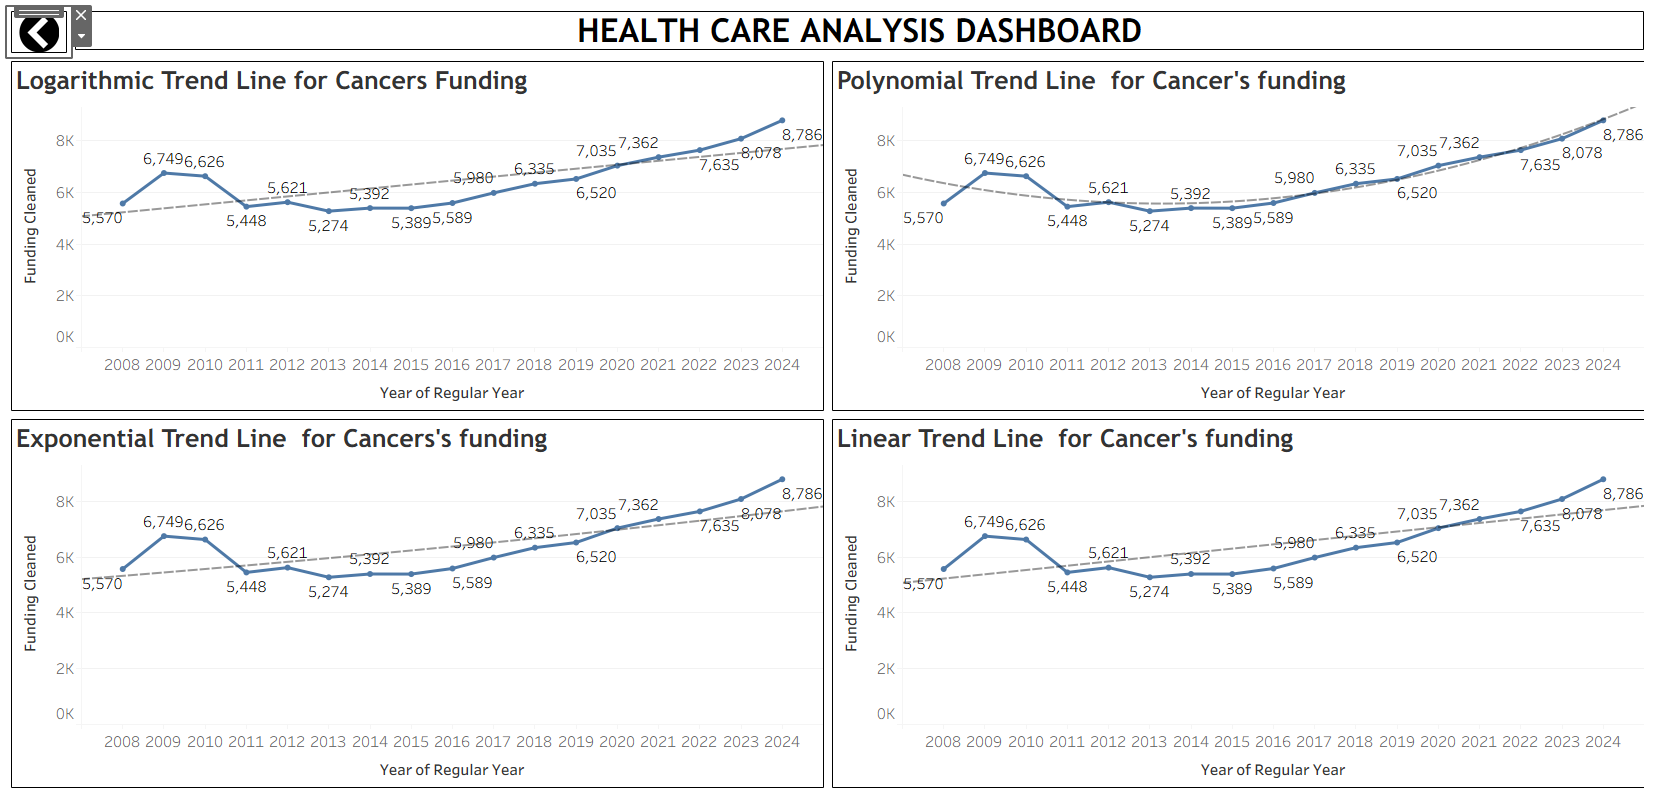

The dashboard page shown, as its layout file describes it:
{"tool":"tableau","page":{"name":"Dashboard 7","canvas":[1000,1000],"units":"permille","ordinal":6},"visuals":[{"type":"dashboard-object","box":[4.8,10,38.6,62.4]},{"type":"text","box":[43.4,10,951.7,58.7]},{"type":"worksheet","title":"Logarithmic Trend Line","mark":"Automatic","rows":["Calculation_335518175856336896"],"cols":["Calculation_335518175857041411"],"box":[4.8,72.4,495.2,446.9]},{"type":"worksheet","title":"Polynomial Trend Line ","mark":"Automatic","rows":["Calculation_335518175856336896"],"cols":["Calculation_335518175857041411"],"box":[500,72.4,495.2,446.9]},{"type":"worksheet","title":"Exponential Trend Line ","mark":"Automatic","rows":["Calculation_335518175856336896"],"cols":["Calculation_335518175857041411"],"box":[4.8,519.4,495.2,470.7]},{"type":"worksheet","title":"Linear Trend Line ","mark":"Automatic","rows":["Calculation_335518175856336896"],"cols":["Calculation_335518175857041411"],"box":[500,519.4,495.2,470.7]}]}

Visuals, with their boxes on the dashboard's canvas, which has no fixed pixel size, in thousandths of its width and height (x1, y1, x2, y2). These are canvas units, not pixel positions in the 1656x792 screenshot, which may show the page scaled, cropped or inside an application window:
dashboard-object: crop(5, 10, 43, 72)
text: crop(43, 10, 995, 69)
"Logarithmic Trend Line" worksheet: crop(5, 72, 500, 519)
"Polynomial Trend Line " worksheet: crop(500, 72, 995, 519)
"Exponential Trend Line " worksheet: crop(5, 519, 500, 990)
"Linear Trend Line " worksheet: crop(500, 519, 995, 990)
